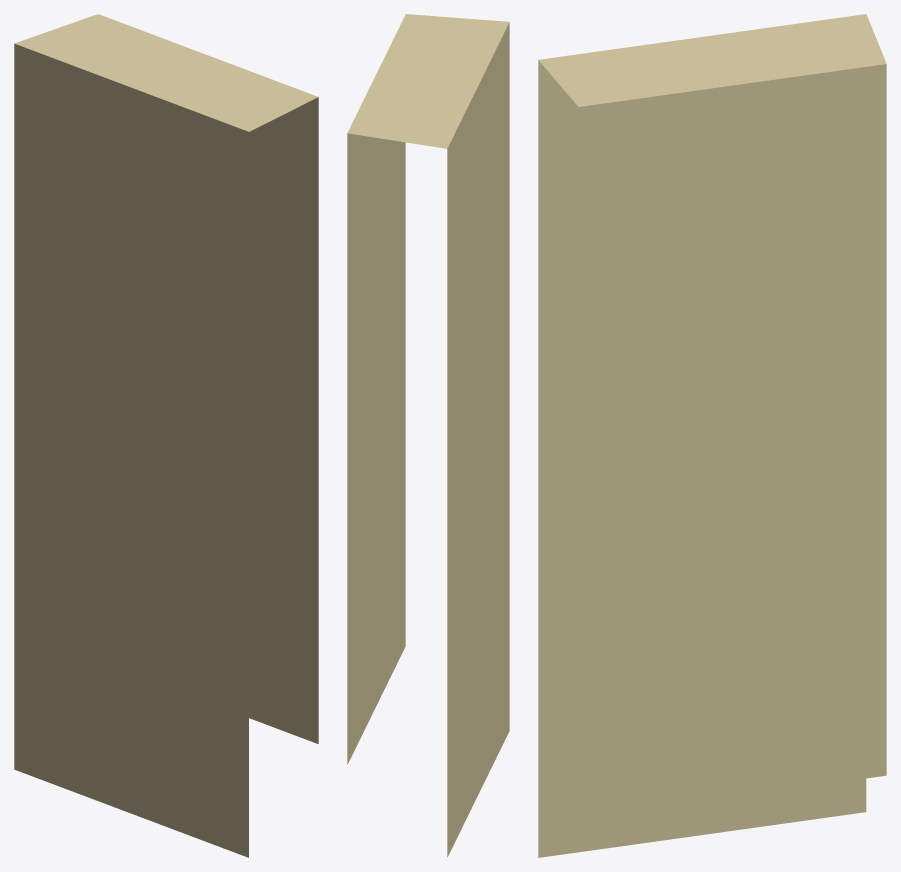
File: wall9.fbx
3 renders of one model, left to right at view 1: azimuth 30°, elevation 25°; view 2: azimuth 150°, elevation 25°; view 3: azimuth 270°, elevation 25°, orthographic. The views are drawn at different scales.
Parts seen in each view (by area): view 1: duvar.028; view 2: duvar.028; view 3: duvar.028.
Boxes of the visible parts, x1,y1,x2,y2 form: duvar.028: [14, 14, 318, 857]; duvar.028: [347, 14, 509, 857]; duvar.028: [538, 14, 886, 857].
Size of the model in its own units: 11.25 by 44.99 by 17.81.
